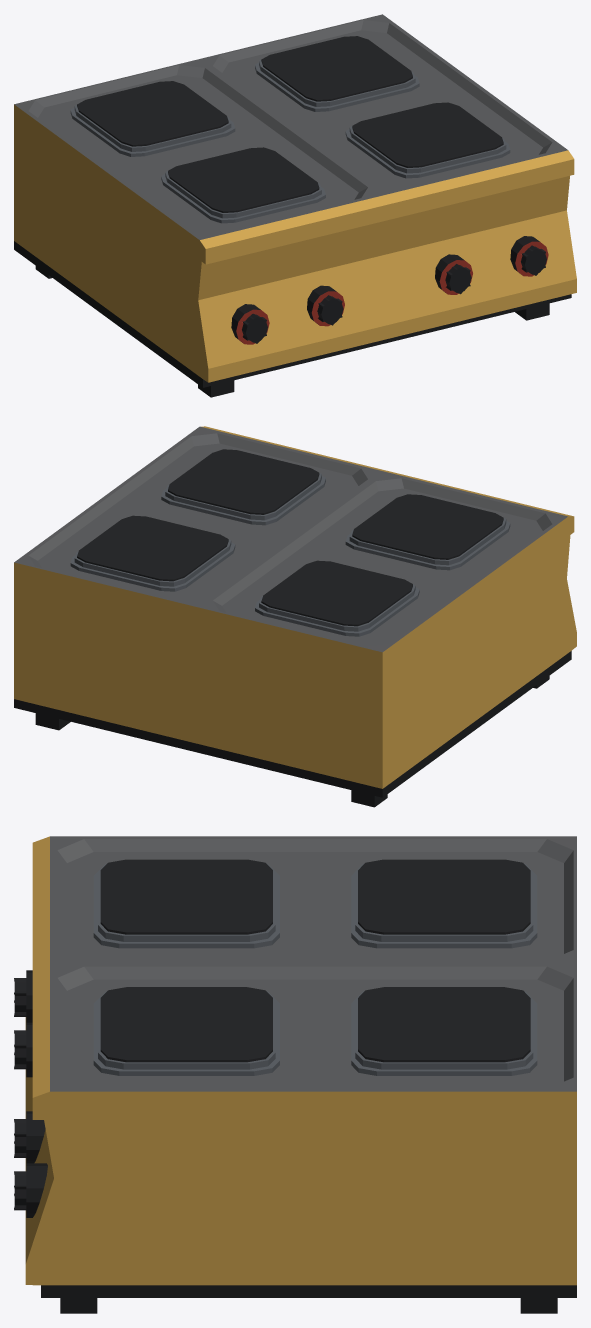
File: tabletopgasstovelarge_01_D.gltf
3 views of the same model, one above another, from view 1: azimuth 30°, elevation 25°; view 2: azimuth 150°, elevation 25°; view 3: azimuth 270°, elevation 25° (orthographic). The views are drawn at different scales.
Visible parts, largest first — view 1: tabletopgasstovelarge_01_D, Swithcfortabletopgasstovelarge_03_D, Swithcfortabletopgasstovelarge_04_D, Swithcfortabletopgasstovelarge_01_D, Swithcfortabletopgasstovelarge_02_D; view 2: tabletopgasstovelarge_01_D; view 3: tabletopgasstovelarge_01_D.
Boxes of the visible parts, x1=… form: tabletopgasstovelarge_01_D: x1=14, y1=14, x2=576, y2=397; Swithcfortabletopgasstovelarge_03_D: x1=445, y1=264, x2=471, y2=294; Swithcfortabletopgasstovelarge_04_D: x1=521, y1=245, x2=546, y2=275; Swithcfortabletopgasstovelarge_01_D: x1=242, y1=313, x2=267, y2=343; Swithcfortabletopgasstovelarge_02_D: x1=317, y1=295, x2=343, y2=325; tabletopgasstovelarge_01_D: x1=14, y1=426, x2=576, y2=807; tabletopgasstovelarge_01_D: x1=25, y1=836, x2=576, y2=1313.
Size of the model in its own units: 0.5 by 0.216 by 0.4661.
1 material, 1 textured.
